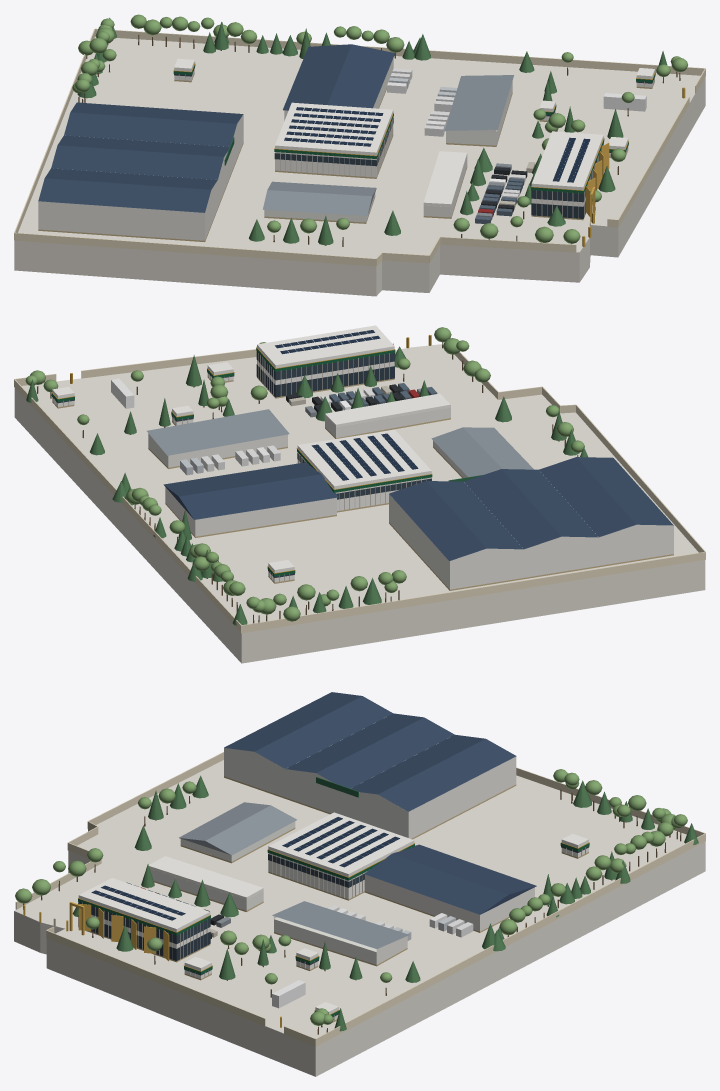
The model's file is avropa-zavod.glb.
The picture shows the model from 3 angles, top to bottom: view 1: azimuth 30°, elevation 25°; view 2: azimuth 150°, elevation 25°; view 3: azimuth 270°, elevation 25°; orthographic projection.
Size of the model in its own units: 227 by 21.01 by 197.
